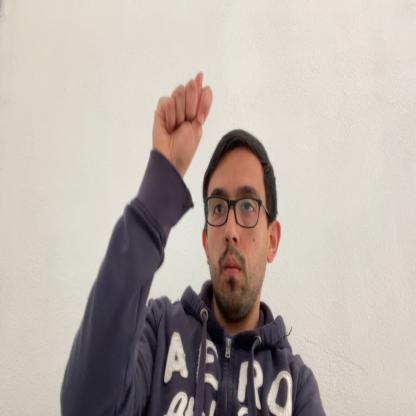T: (153, 70, 213, 172)
